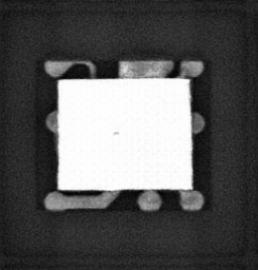DIE_INK: (110, 129, 122, 135)
